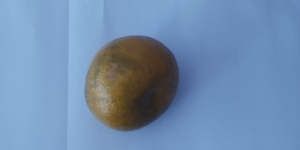BAD: (84, 36, 182, 132)
